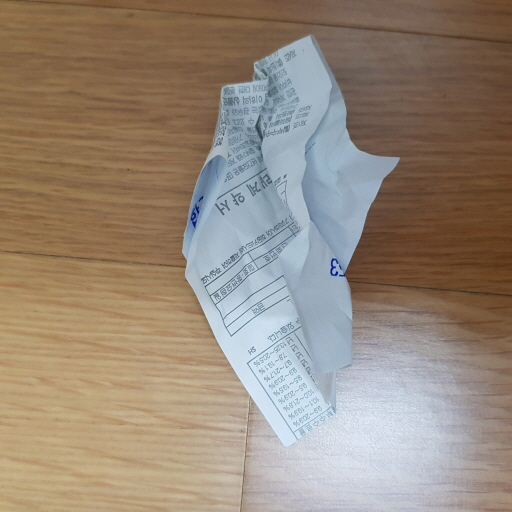Paper_3: (177, 27, 400, 443)
